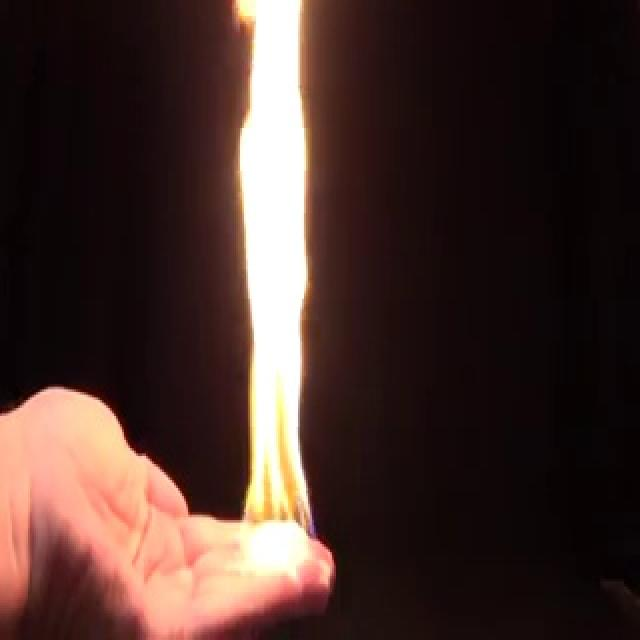fire: (210, 0, 337, 581)
